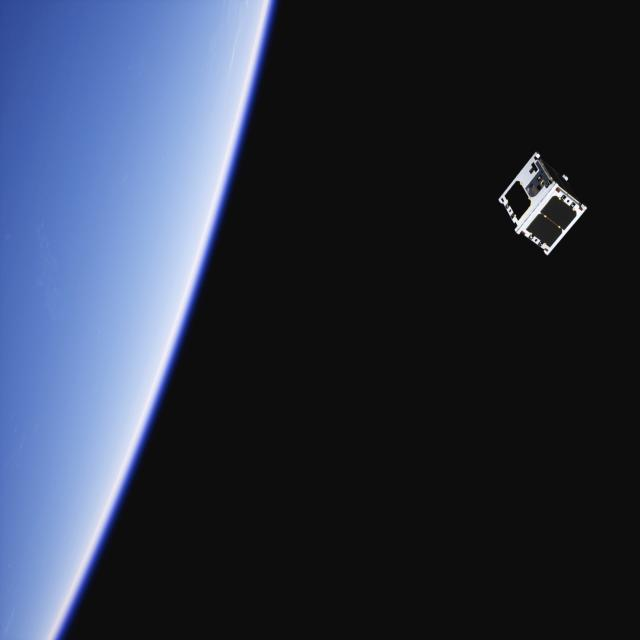satellite: (499, 144, 595, 256)
